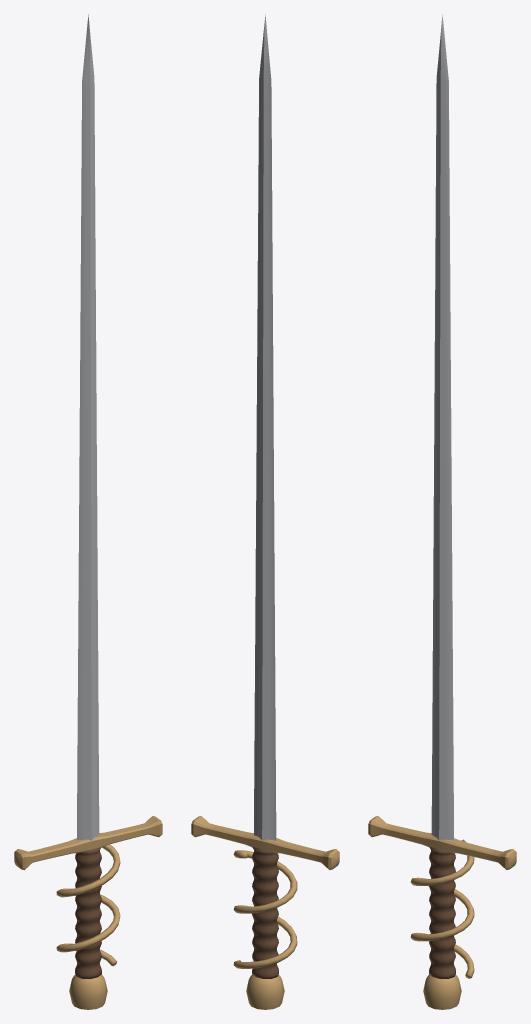
File: spiral-rapier.glb
3 views of the same model, side by side, from view 1: azimuth 30°, elevation 25°; view 2: azimuth 150°, elevation 25°; view 3: azimuth 330°, elevation 25° (orthographic).
Visible parts, largest first — view 1: spiral-rapier; view 2: spiral-rapier; view 3: spiral-rapier.
Part boxes in pixels (<box>): spiral-rapier: <box>14,14,162,1009</box>; spiral-rapier: <box>191,14,339,1009</box>; spiral-rapier: <box>368,14,516,1009</box>.
Size of the model in its own units: 0.4 by 2.62 by 0.1316.
